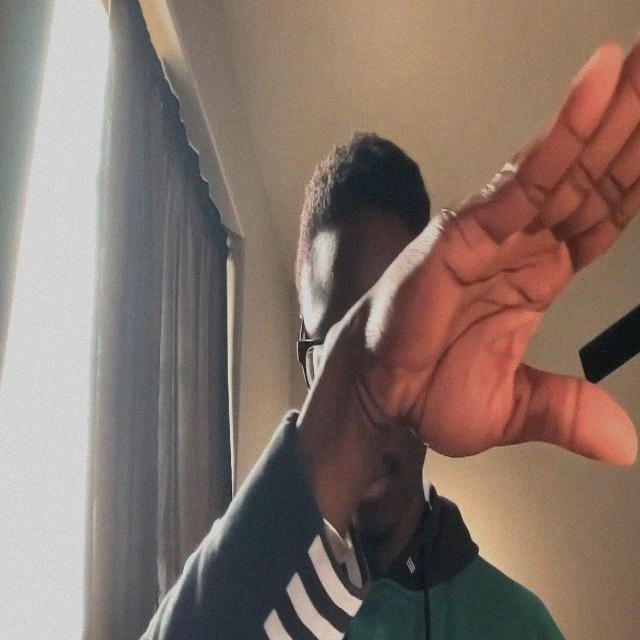Paper: (335, 0, 640, 468)
